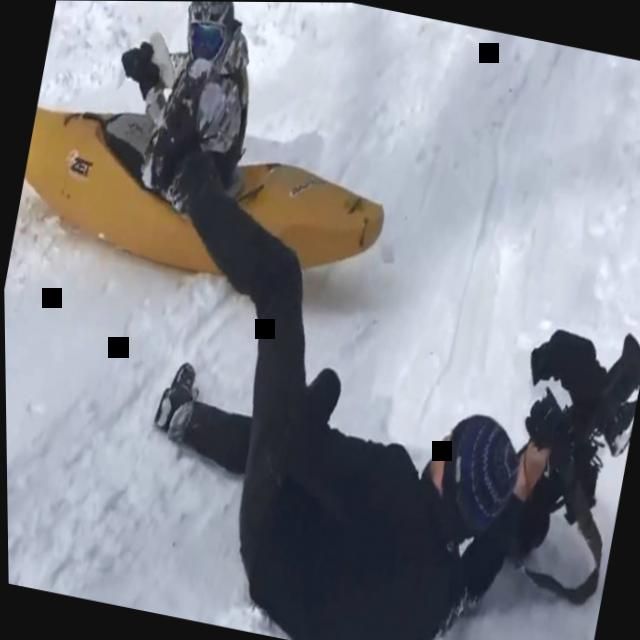Fall-Detected: (50, 105, 611, 640)
